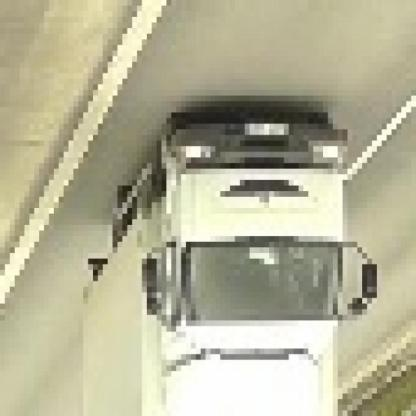truck: (89, 113, 378, 416)
